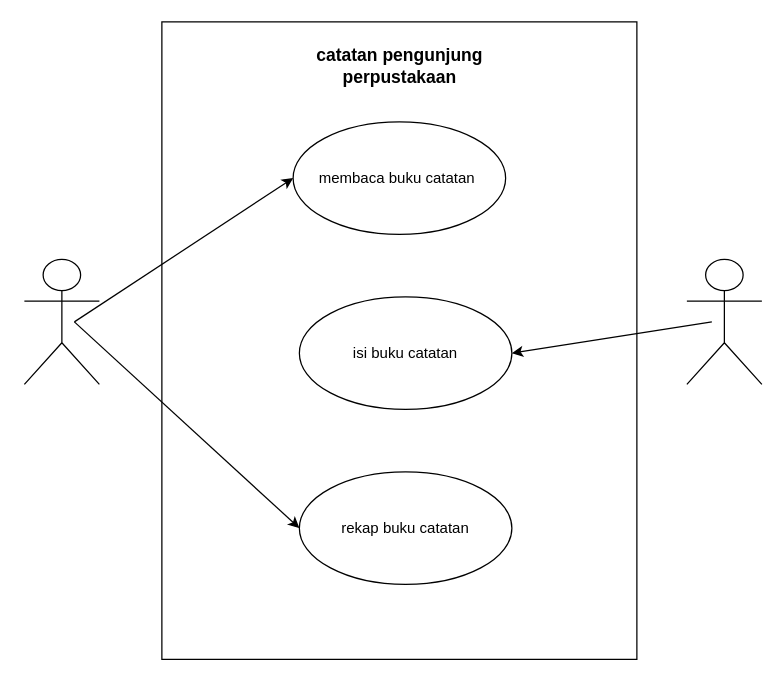
Image size: 784x681. Some labels were removed from this diagram. Each missing label, with the box of its shape:
anggota: (686, 258, 762, 384)
pustakawan: (23, 258, 99, 384)
